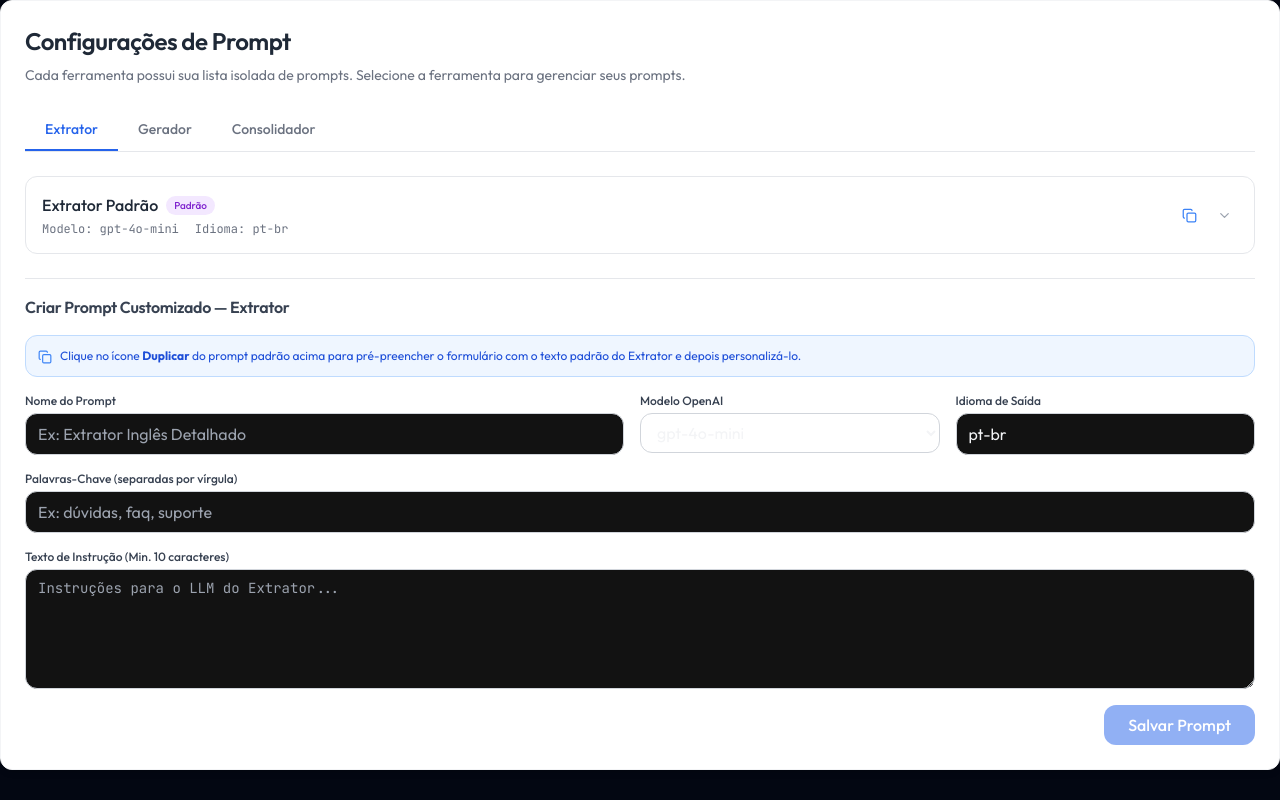
Scenario: PromptSettings Component › handles default prompt duplication with correct naming
// Extrator is selected. Click duplicate.
Click the button titled "Duplicar \"Extrator Padrão\" como customizado" at (1190, 215), box [1176, 202, 1203, 228]
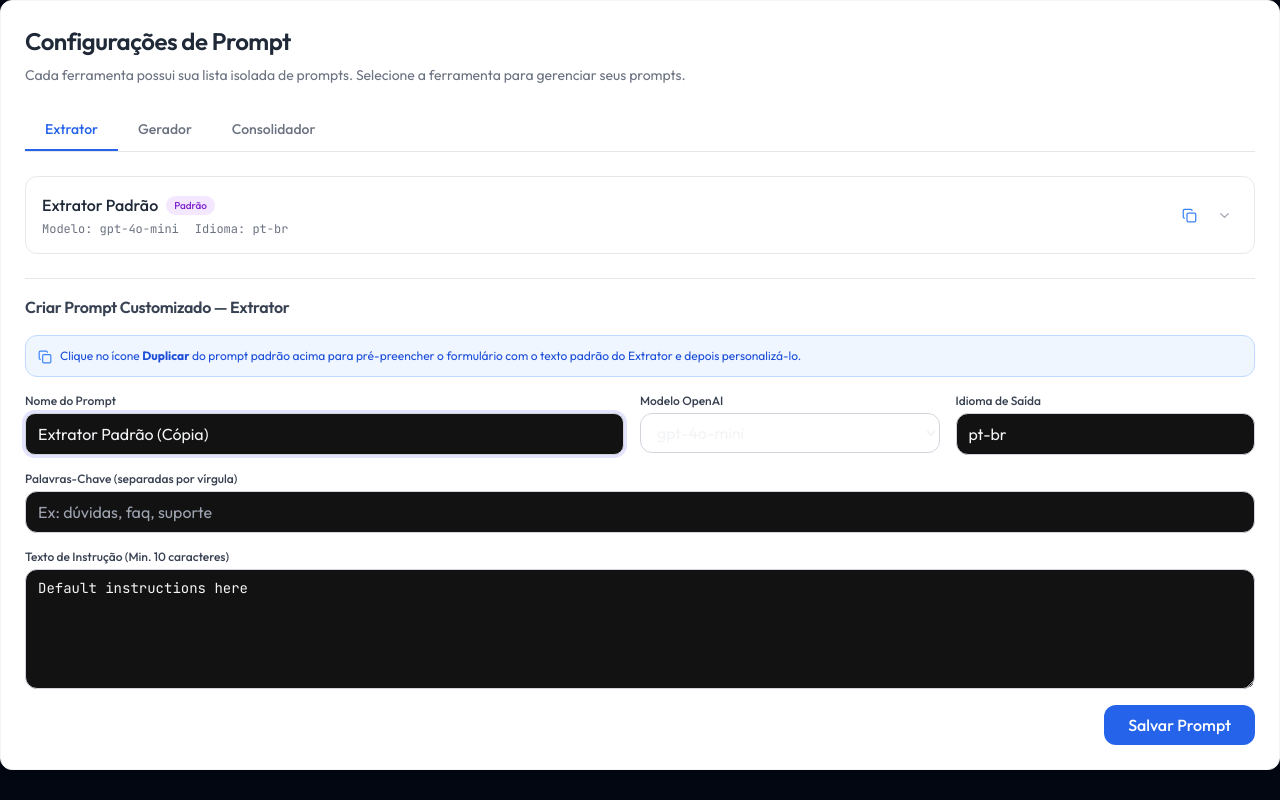
Result: the field showing "Extrator Padrão (Cópia)" below "Nome do Prompt" is shown at [25, 413, 624, 455]
Result: the text box showing "Default instructions here" is shown at [25, 569, 1255, 689]
